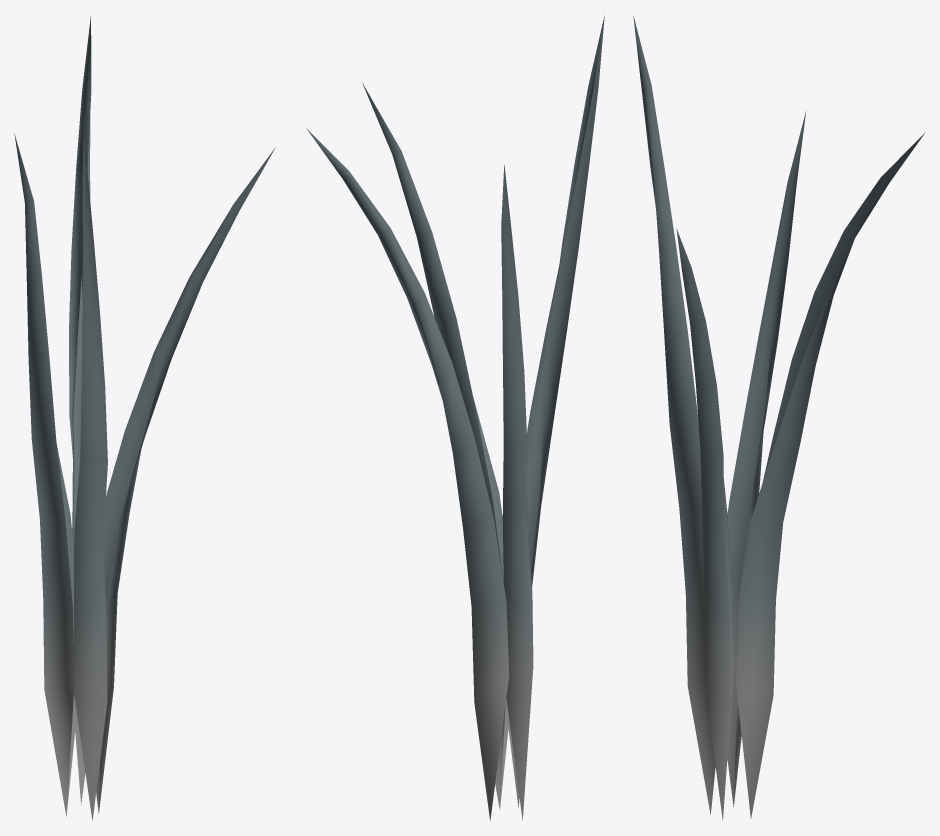
Rendered from plants-grasses-reeds-grass-blades_v7.glb.
3 views of the same model, side by side, from view 1: azimuth 30°, elevation 25°; view 2: azimuth 150°, elevation 25°; view 3: azimuth 270°, elevation 25° (orthographic). The views are drawn at different scales.
Parts seen in each view (by area): view 1: Grass Blades_v7; view 2: Grass Blades_v7; view 3: Grass Blades_v7.
Boxes of the visible parts, x1=… form: Grass Blades_v7: x1=14, y1=16, x2=275, y2=821; Grass Blades_v7: x1=306, y1=15, x2=604, y2=820; Grass Blades_v7: x1=633, y1=15, x2=925, y2=820.
Size of the model in its own units: 0.1192 by 0.4 by 0.1363.
